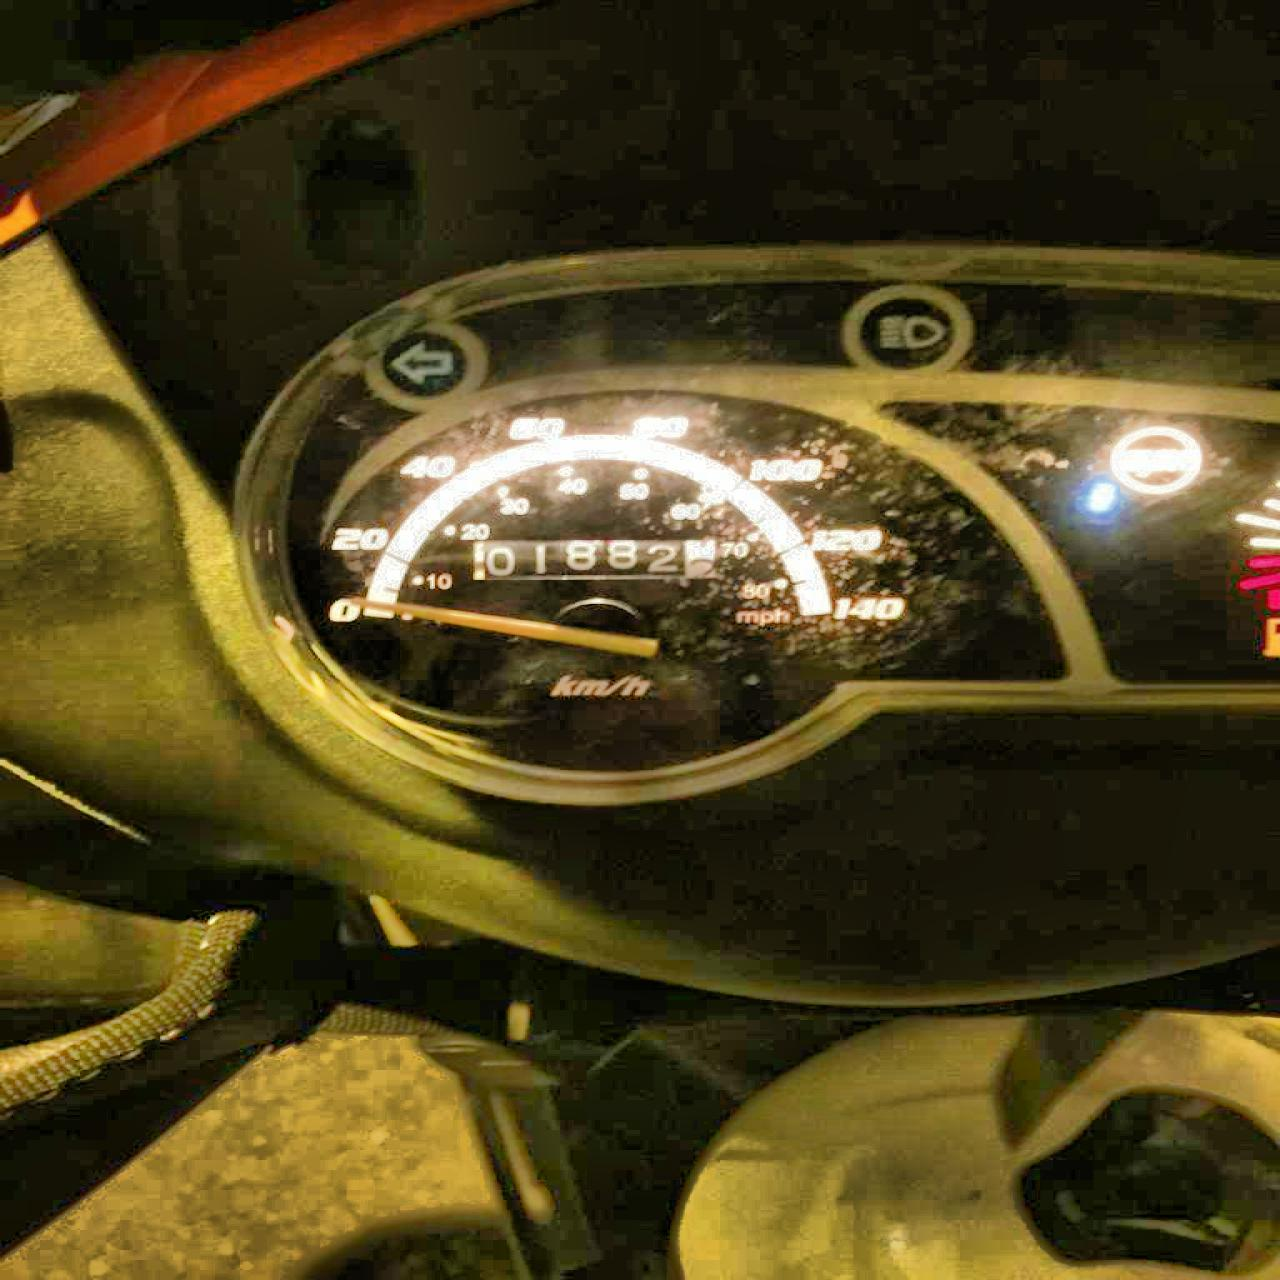0: (485, 544, 515, 576)
1: (531, 542, 546, 573)
2: (645, 543, 679, 572), (687, 554, 719, 579)
8: (605, 539, 636, 570), (565, 538, 595, 570)
odometer: (467, 537, 720, 581)
